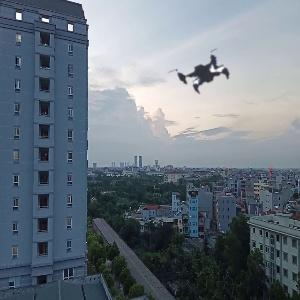drone: (155, 24, 256, 125)
